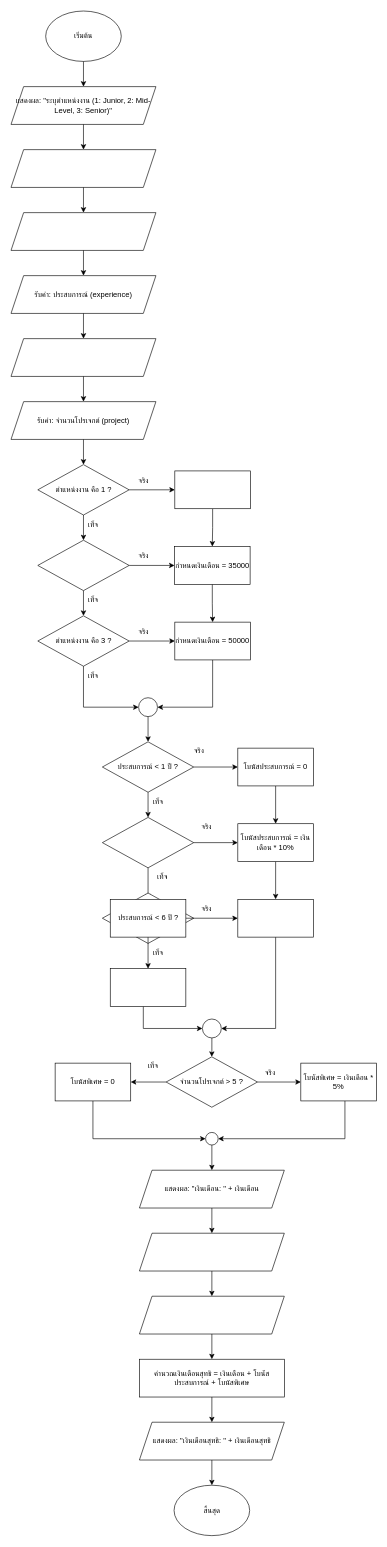
Image size: 387x1547. Some labels were removed from this diagram. Here are the shapes that lost their labels. From the top down, the centre of each, then its label:
point (83, 168): รับค่า: ตำแหน่งงาน (position)
point (83, 231): แสดงผล: "ระบุประสบการณ์ (ปี)"
point (83, 357): แสดงผล: "ระบุจำนวนโปรเจกต์ที่ทำสำเร็จ"
point (212, 489): กำหนดเงินเดือน = 20000
point (83, 565): ตำแหน่งงาน คือ 2 ?
point (148, 842): ประสบการณ์ < 4 ปี ?
point (275, 918): โบนัสประสบการณ์ = เงินเดือน * 15%
point (148, 987): โบนัสประสบการณ์ = เงินเดือน * 20%
point (211, 1252): แสดงผล: "โบนัสประสบการณ์: " + โบนัสประสบการณ์
point (211, 1315): แสดงผล: "โบนัสพิเศษ: " + โบนัสพิเศษ
